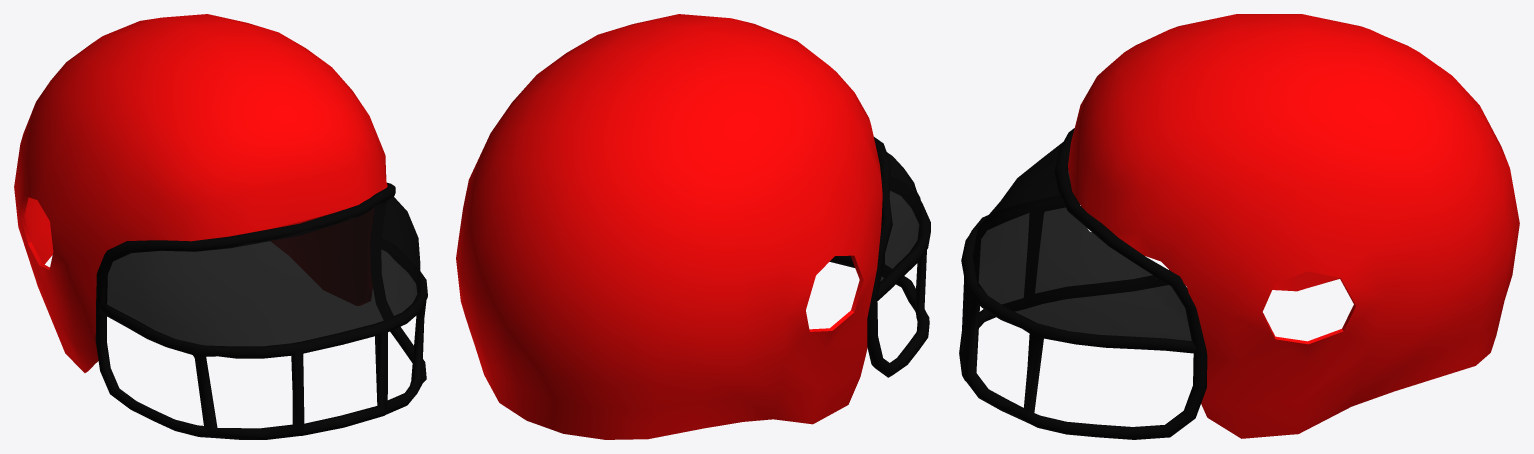
File: Helmet With Visor.FBX
3 renders of one model, left to right at view 1: azimuth 30°, elevation 25°; view 2: azimuth 150°, elevation 25°; view 3: azimuth 270°, elevation 25°, orthographic. The views are drawn at different scales.
Parts seen in each view (by area): view 1: Helmet; view 2: Helmet; view 3: Helmet.
Part boxes in pixels (box(x1,y1,x2,y2)): Helmet: box(14, 14, 427, 439); Helmet: box(456, 14, 930, 439); Helmet: box(959, 14, 1519, 439).
Size of the model in its own units: 46.09 by 41.26 by 62.72.
